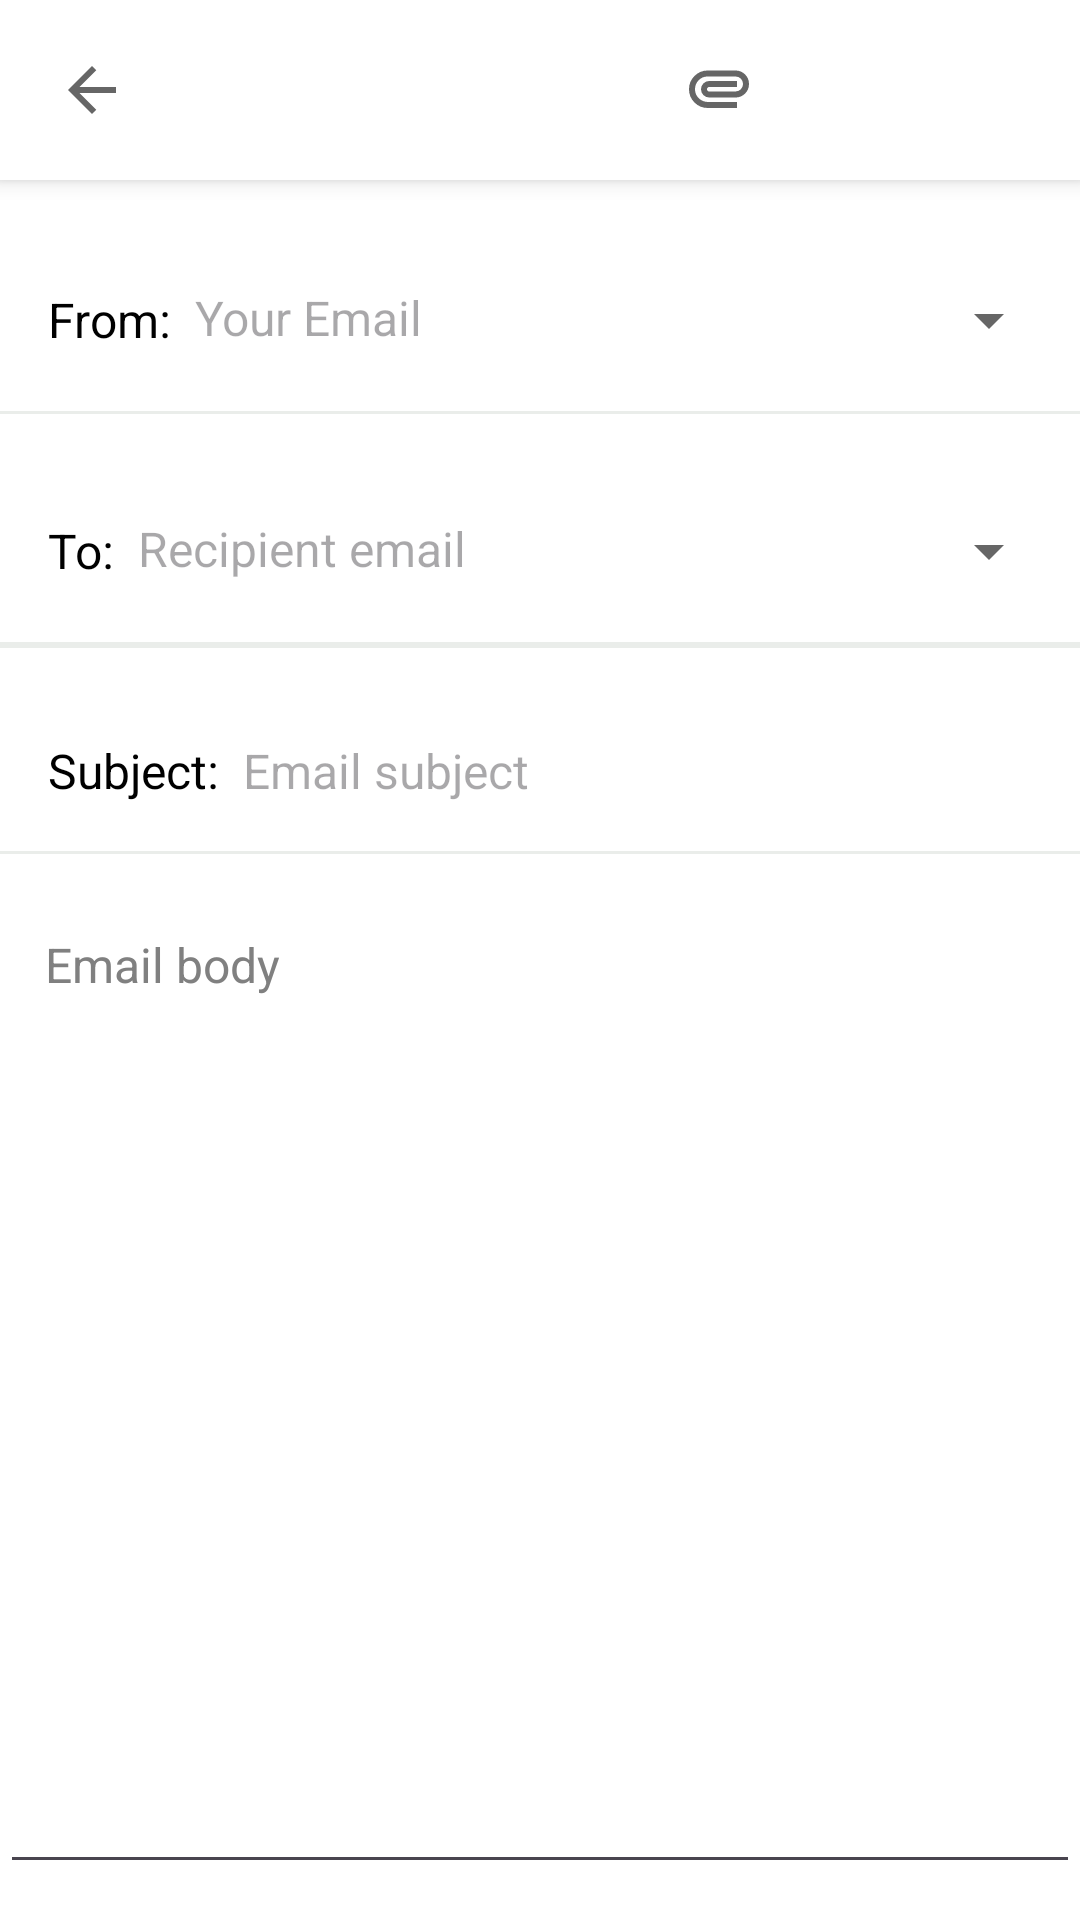

Icons on this 1080 × 1920 Android screen, each with its box as box=[x1, y1, x2, y2]:
Add File: box=[689, 70, 749, 108]
Back: box=[68, 66, 116, 114]
Dropdown: box=[974, 314, 1004, 329], box=[974, 545, 1004, 560]
